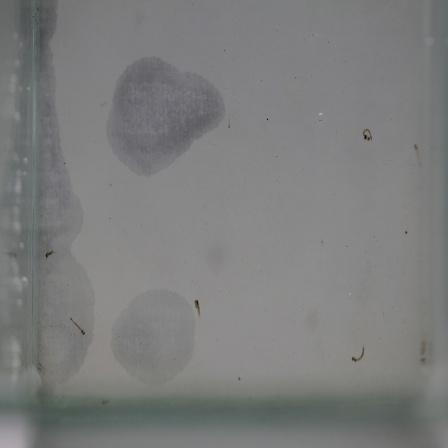Jentik-Nyamuk: (65, 313, 89, 340), (357, 123, 377, 149), (344, 343, 369, 363), (189, 293, 205, 323)
